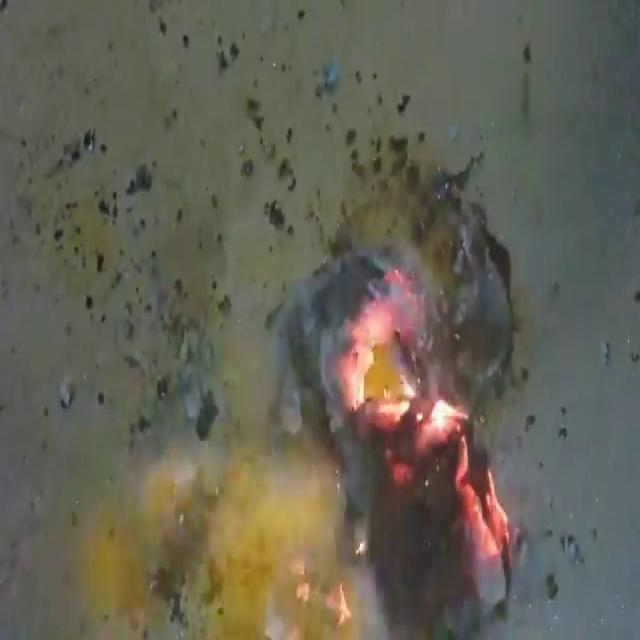Fire: (73, 97, 561, 640)
